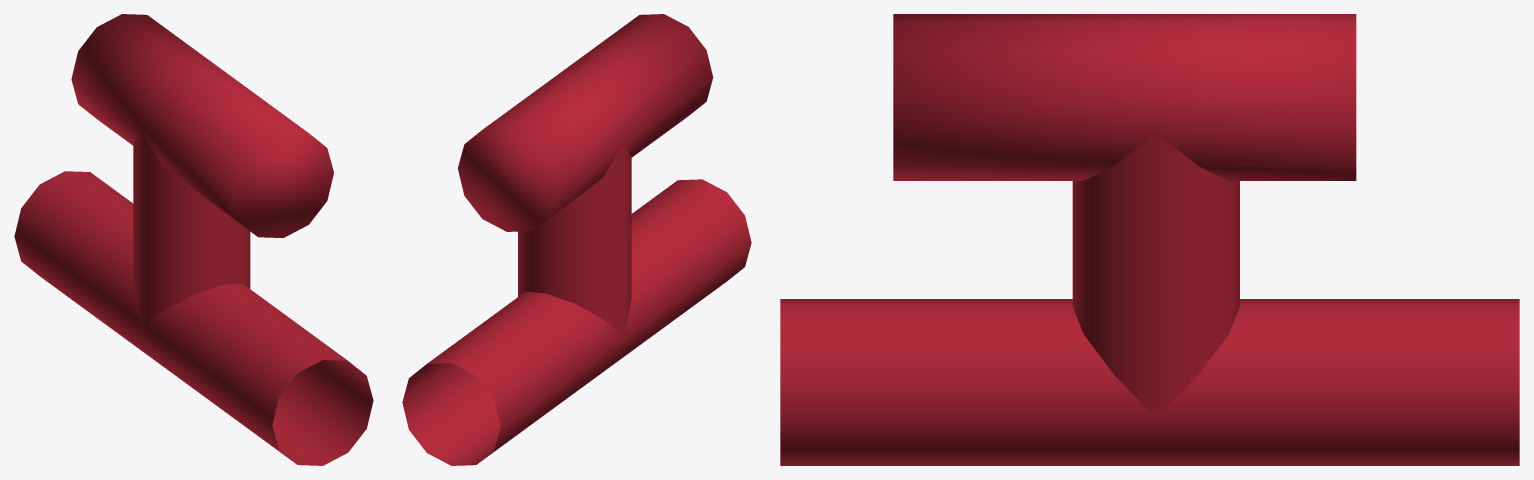
Rendered from Katup.fbx.
The picture shows the model from 3 angles, left to right: view 1: azimuth 30°, elevation 25°; view 2: azimuth 150°, elevation 25°; view 3: azimuth 270°, elevation 25°; orthographic projection. The views are drawn at different scales.
Parts seen in each view (by area): view 1: Katup Gas 1/2; view 2: Katup Gas 1/2; view 3: Katup Gas 1/2.
Part boxes in pixels (x1=…): Katup Gas 1/2: x1=14, y1=14, x2=373, y2=465; Katup Gas 1/2: x1=402, y1=14, x2=751, y2=465; Katup Gas 1/2: x1=780, y1=14, x2=1519, y2=465.
Size of the model in its own units: 72.61 by 209 by 320.
